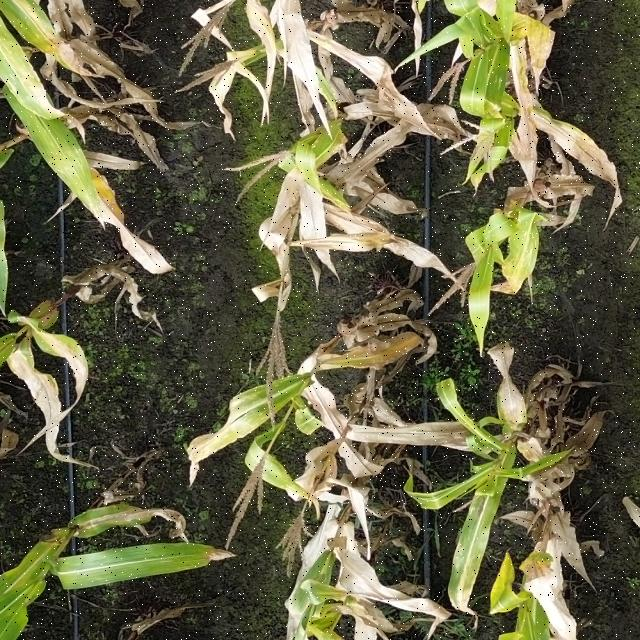gray-leaf-spot: (218, 396, 278, 438), (457, 505, 491, 566), (46, 142, 94, 182), (3, 68, 51, 106), (512, 228, 543, 276), (483, 65, 511, 102)
northern-leaf-blight: (7, 0, 82, 60), (32, 328, 95, 369), (73, 508, 149, 536)
